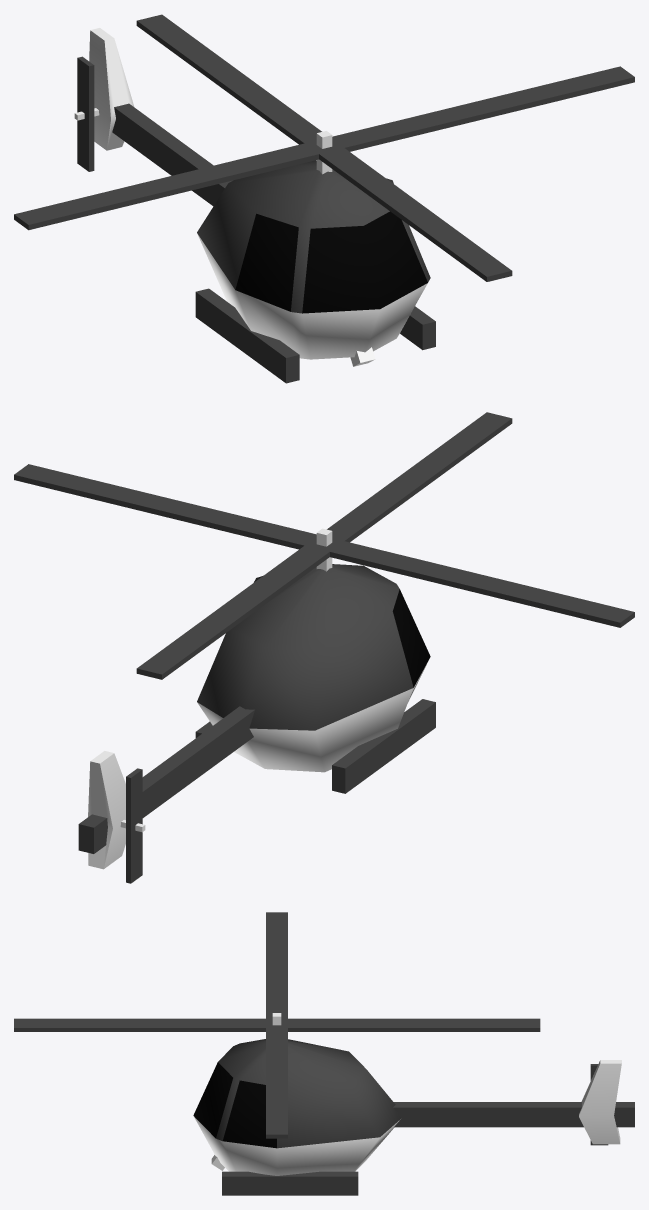
Rendered from PoliceHelicopter-fbx.FBX.
3 views of the same model, one above another, from view 1: azimuth 30°, elevation 25°; view 2: azimuth 150°, elevation 25°; view 3: azimuth 270°, elevation 25° (orthographic). The views are drawn at different scales.
Parts seen in each view (by area): view 1: Body, Main Blades, Tail, Landing Skid, Back blade; view 2: Body, Main Blades, Tail, Landing Skid, Back blade; view 3: Body, Main Blades, Tail, Landing Skid.
Boxes of the visible parts, <box> form: Body: <box>197,160,430,359</box>; Main Blades: <box>14,14,634,281</box>; Tail: <box>89,28,232,206</box>; Landing Skid: <box>195,288,435,383</box>; Back blade: <box>77,56,94,171</box>; Body: <box>197,564,430,772</box>; Main Blades: <box>14,412,634,679</box>; Tail: <box>78,706,254,869</box>; Landing Skid: <box>195,699,435,793</box>; Back blade: <box>126,768,142,883</box>; Body: <box>193,1039,401,1175</box>; Main Blades: <box>14,912,540,1138</box>; Tail: <box>393,1060,634,1144</box>; Landing Skid: <box>222,1171,358,1195</box>.
Bounding box in the file's own units: 120 × 38.63 × 142.
Materials: 1 (1 with a texture image).
